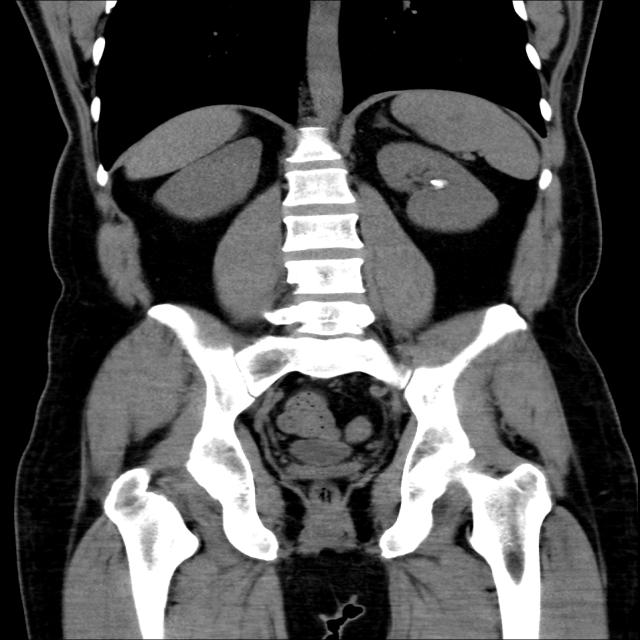kidneystone: (430, 179, 449, 189)
